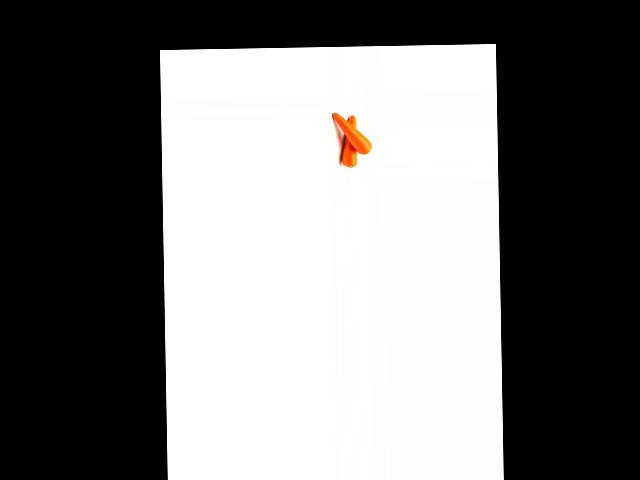carrot: (338, 108, 359, 171)
